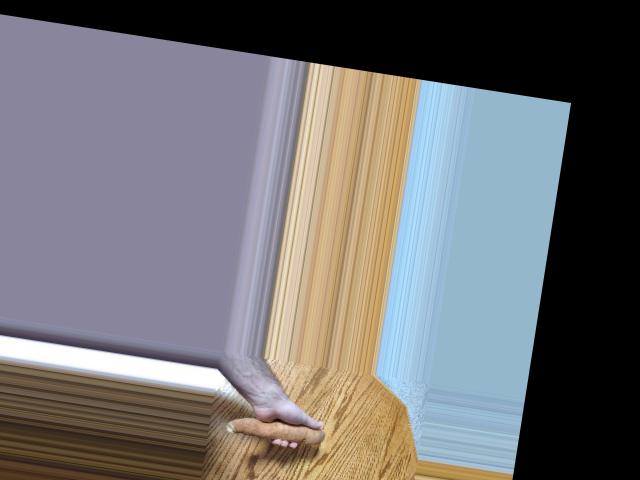sweet_potato: (224, 403, 328, 448)
